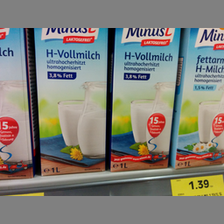milk: (32, 27, 109, 176), (111, 28, 180, 173), (172, 28, 224, 167)
